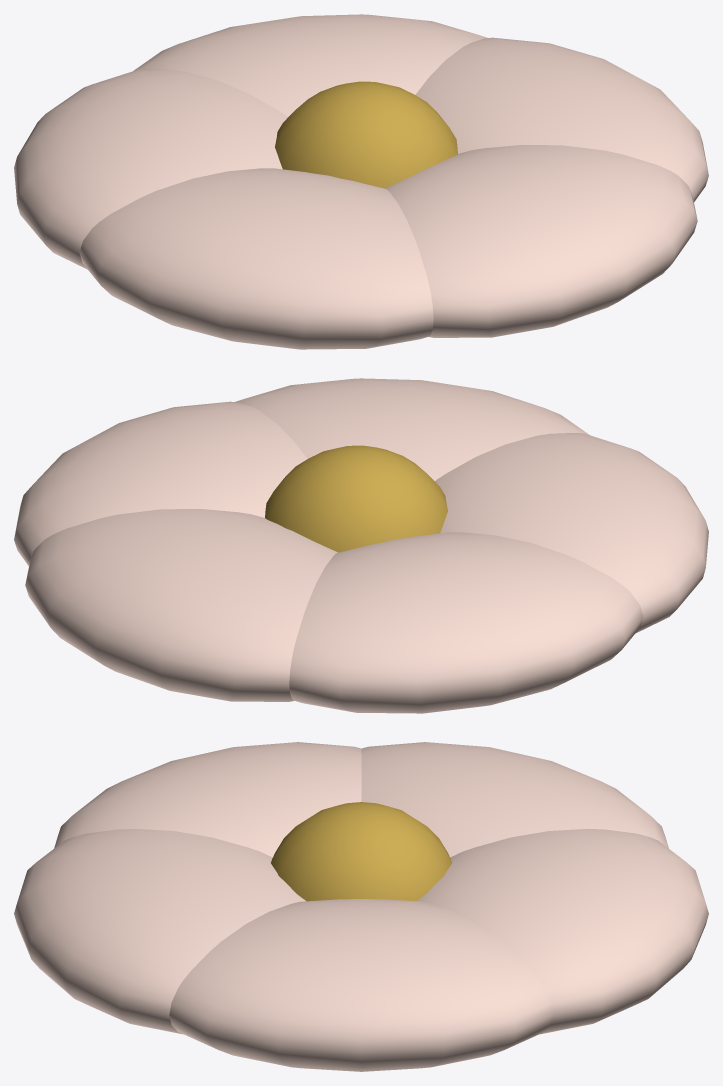
Rendered from flower.glb.
3 views of the same model, one above another, from view 1: azimuth 30°, elevation 25°; view 2: azimuth 150°, elevation 25°; view 3: azimuth 270°, elevation 25° (orthographic).
Size of the model in its own units: 1.49 by 0.44 by 1.51.
